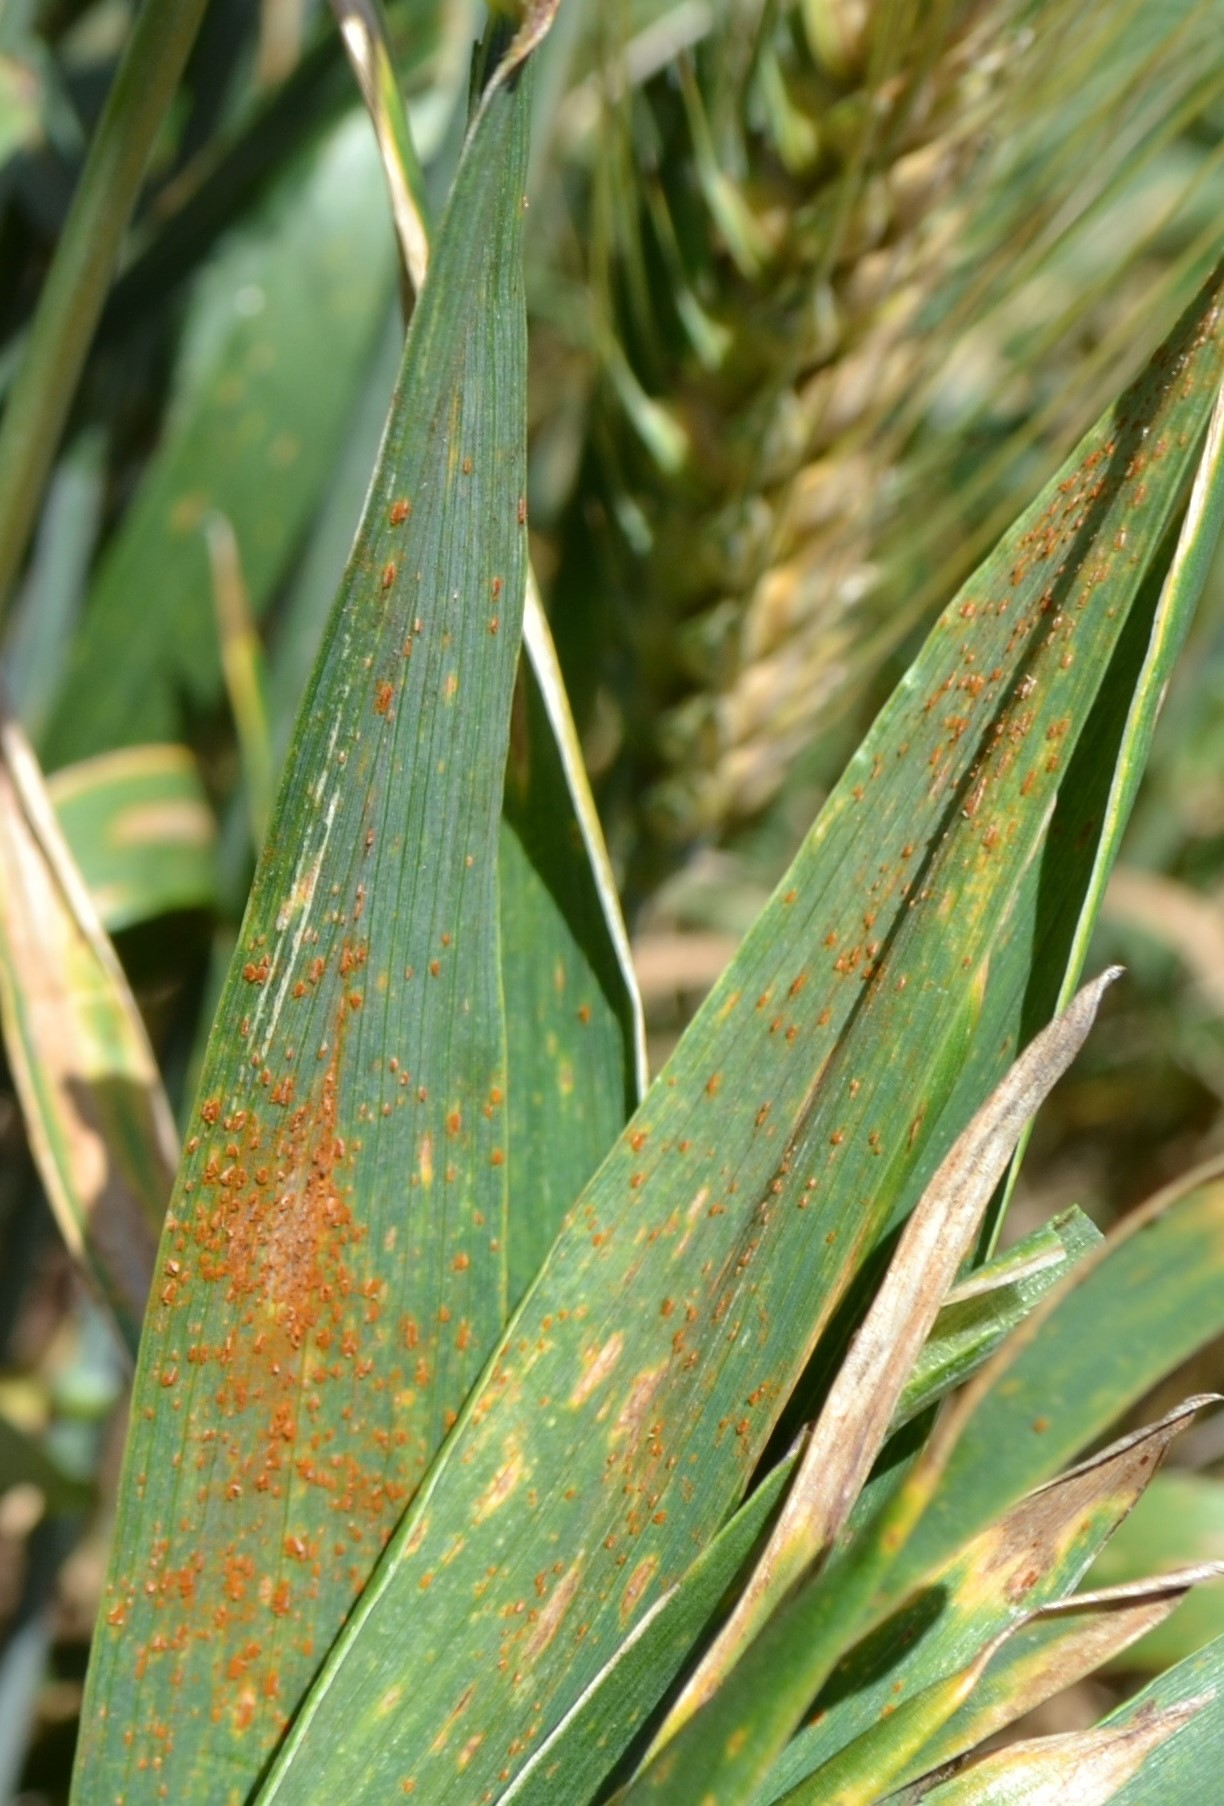Leaf Rust: (113, 1025, 473, 1792)
